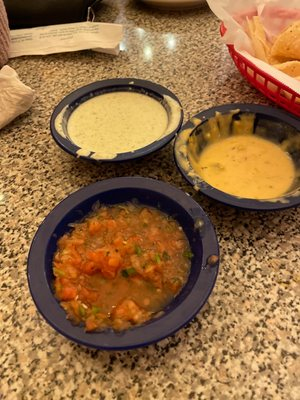sushi: (20, 177, 221, 350), (173, 102, 300, 212), (50, 79, 183, 164), (206, 0, 300, 119)
